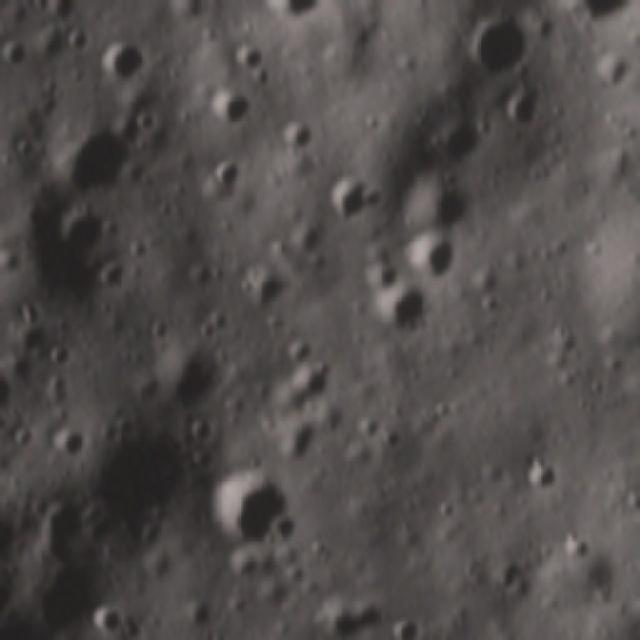crater: (93, 427, 193, 531), (52, 115, 146, 196), (199, 471, 296, 547), (148, 343, 226, 417), (461, 14, 533, 80), (24, 504, 90, 570), (30, 574, 104, 632), (415, 172, 482, 230), (326, 168, 388, 226), (90, 35, 159, 83), (372, 286, 432, 340), (401, 234, 461, 286), (437, 112, 488, 168), (551, 0, 640, 32), (239, 268, 295, 315), (58, 203, 109, 254), (278, 415, 325, 470), (523, 452, 572, 501), (213, 82, 264, 128), (506, 89, 551, 136), (554, 525, 604, 567), (44, 424, 91, 467), (492, 560, 532, 603), (0, 368, 28, 426), (254, 0, 326, 22), (227, 41, 267, 76), (0, 34, 37, 71), (382, 612, 427, 640), (44, 342, 79, 371), (90, 608, 124, 637), (618, 490, 640, 521), (461, 0, 510, 8), (0, 56, 5, 96)
